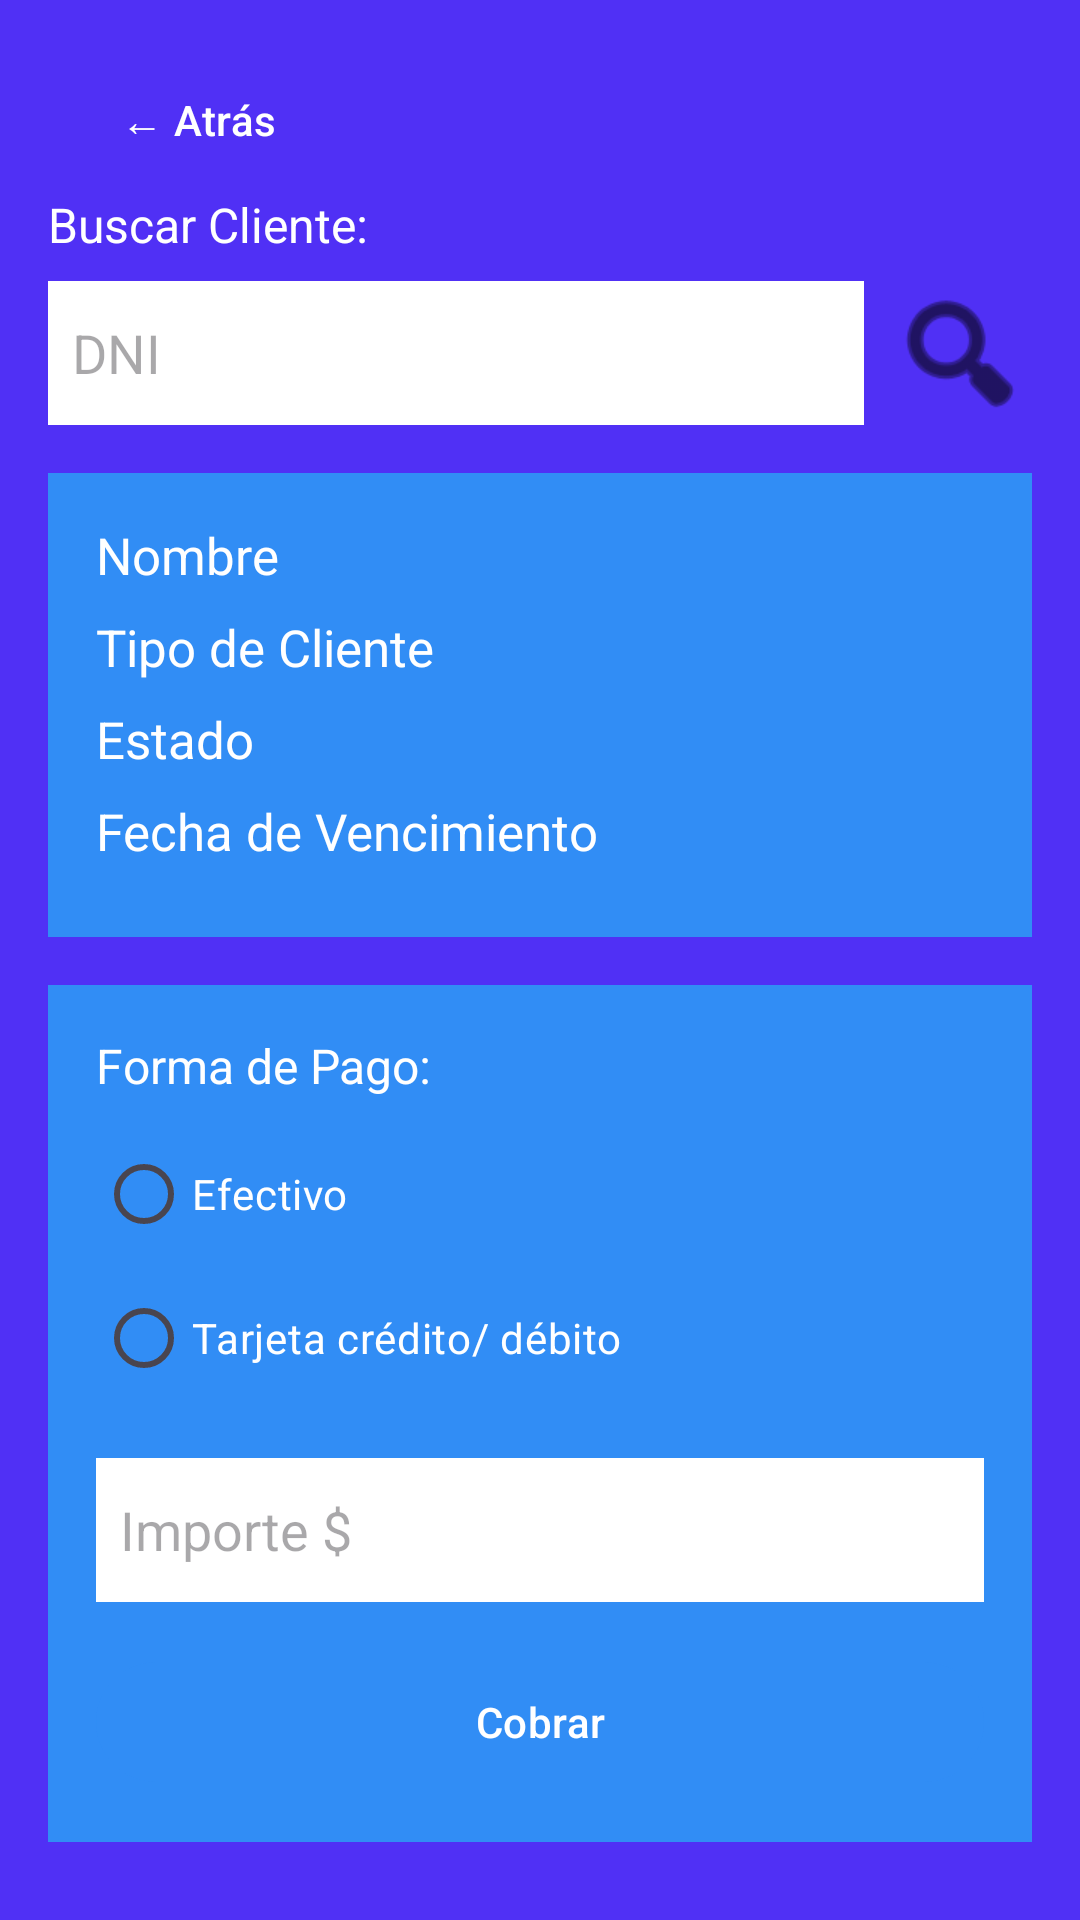

Screen size 1080px×1920px. Icon name, then its box in pixels as box=[x1, y1, x2, y2]:
Buscar cliente: box=[907, 300, 1013, 407]
